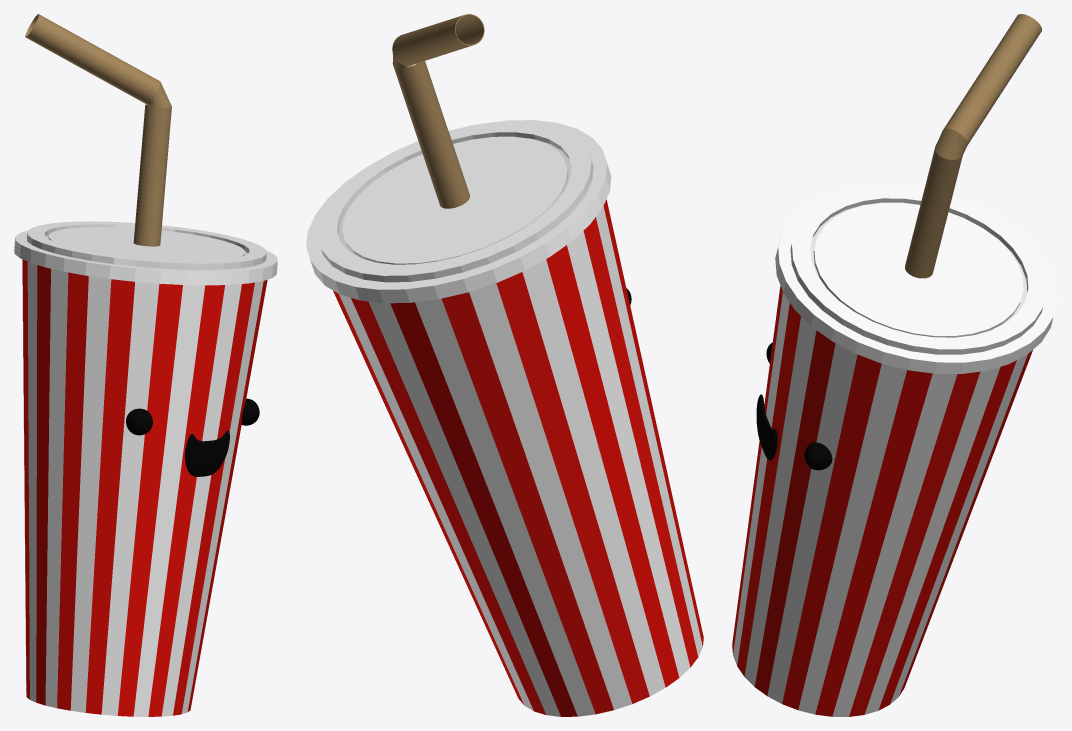
File: Soda_icon.fbx
3 renders of one model, left to right at view 1: azimuth 30°, elevation 25°; view 2: azimuth 150°, elevation 25°; view 3: azimuth 270°, elevation 25°, orthographic. The views are drawn at different scales.
Parts seen in each view (by area): view 1: Cylinder.001, Cube.007, eye.008; view 2: Cylinder.001; view 3: Cylinder.001, Cube.007, eye.007.
Boxes of the visible parts, x1,y1,x2,y2 form: Cylinder.001: (14, 14, 277, 716); Cube.007: (185, 430, 229, 476); eye.008: (126, 408, 152, 435); Cylinder.001: (306, 14, 703, 716); Cylinder.001: (732, 14, 1057, 716); Cube.007: (756, 394, 777, 460); eye.007: (804, 442, 832, 470).
Bounding box in the file's own units: 341 × 776 × 335.
